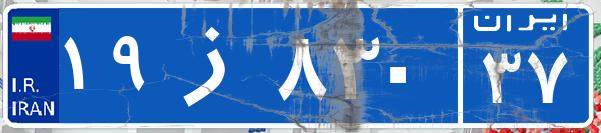0: (385, 28, 445, 110)
1: (57, 26, 110, 107)
3: (330, 28, 385, 110), (475, 38, 525, 113)
7: (525, 38, 570, 115)
8: (273, 28, 330, 110)
9: (110, 28, 158, 105)
ز: (158, 15, 273, 115)
